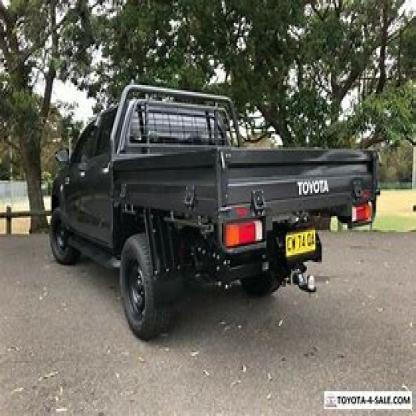light_vehicle: (37, 80, 383, 340)
